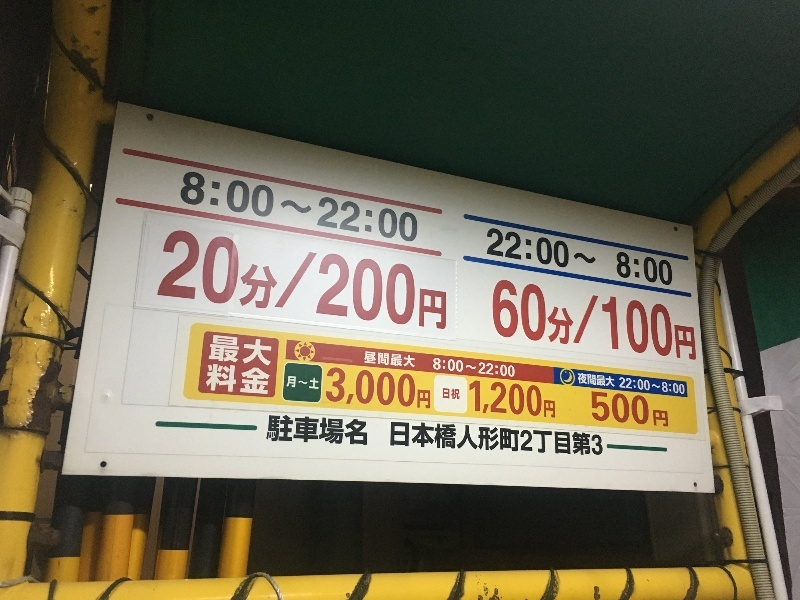text: (177, 229, 192, 334), (193, 229, 208, 334), (209, 229, 224, 334), (225, 229, 240, 334), (241, 229, 256, 334), (257, 229, 272, 334), (273, 229, 288, 334), (289, 229, 304, 334), (305, 229, 320, 334), (321, 229, 336, 334), (337, 229, 352, 334), (353, 229, 368, 334), (369, 229, 384, 334), (385, 229, 400, 334), (401, 229, 416, 334), (417, 229, 432, 334), (433, 229, 448, 334), (497, 278, 512, 361), (513, 278, 528, 361), (529, 278, 544, 361), (545, 278, 560, 361), (561, 278, 576, 361), (577, 278, 592, 361), (593, 278, 608, 361), (609, 278, 624, 361), (625, 278, 640, 361), (641, 278, 656, 361), (657, 278, 672, 361), (673, 278, 688, 361), (193, 169, 208, 245), (209, 169, 224, 245), (225, 169, 240, 245), (241, 169, 256, 245), (257, 169, 272, 245), (273, 169, 288, 245), (289, 169, 304, 245), (305, 169, 320, 245), (321, 169, 336, 245), (337, 169, 352, 245), (353, 169, 368, 245), (369, 169, 384, 245), (385, 169, 400, 245), (401, 169, 416, 245), (166, 229, 176, 334), (497, 228, 512, 288), (513, 228, 528, 288), (529, 228, 544, 288), (545, 228, 560, 288), (561, 228, 576, 288), (577, 228, 592, 288), (593, 228, 608, 288), (609, 228, 624, 288), (625, 228, 640, 288), (641, 228, 656, 288), (657, 228, 672, 288), (182, 169, 192, 245), (689, 278, 697, 361), (337, 367, 352, 411), (353, 367, 368, 411), (369, 367, 384, 411), (385, 367, 400, 411), (401, 367, 416, 411), (417, 367, 432, 411), (481, 381, 496, 419), (497, 381, 512, 419), (513, 381, 528, 419), (529, 381, 544, 419), (401, 421, 416, 458), (417, 421, 432, 458), (433, 421, 448, 458), (449, 421, 464, 458), (465, 421, 480, 458), (481, 421, 496, 458), (497, 421, 512, 458), (513, 421, 528, 458), (529, 421, 544, 458), (545, 421, 560, 458), (561, 421, 576, 458), (577, 421, 592, 458), (593, 392, 608, 428), (609, 392, 624, 428), (625, 392, 640, 428), (641, 392, 656, 428), (353, 413, 369, 446), (273, 413, 288, 446), (289, 413, 304, 446), (305, 413, 320, 446), (321, 413, 336, 446), (337, 413, 352, 446), (488, 228, 496, 288), (225, 336, 240, 367), (241, 336, 256, 367), (257, 336, 272, 367), (209, 364, 224, 394), (225, 364, 240, 394), (241, 364, 256, 394), (657, 392, 669, 428), (257, 364, 271, 394), (545, 381, 556, 419), (211, 336, 224, 367), (327, 367, 336, 411), (593, 421, 603, 458), (471, 381, 480, 419), (391, 421, 400, 458), (449, 357, 464, 379), (465, 357, 480, 379), (481, 357, 496, 379), (497, 357, 512, 379), (435, 357, 448, 379), (369, 351, 384, 369), (385, 351, 400, 369), (625, 377, 640, 395), (641, 377, 656, 395), (657, 377, 672, 395), (401, 351, 415, 369), (289, 375, 304, 391), (577, 373, 592, 388), (593, 373, 608, 388), (305, 375, 319, 391), (673, 377, 685, 395), (494, 278, 496, 361), (449, 388, 460, 400), (673, 228, 675, 288), (269, 413, 272, 446), (609, 373, 615, 388), (619, 377, 624, 395), (417, 169, 418, 245), (513, 357, 516, 379), (443, 388, 448, 400), (365, 351, 368, 369)
